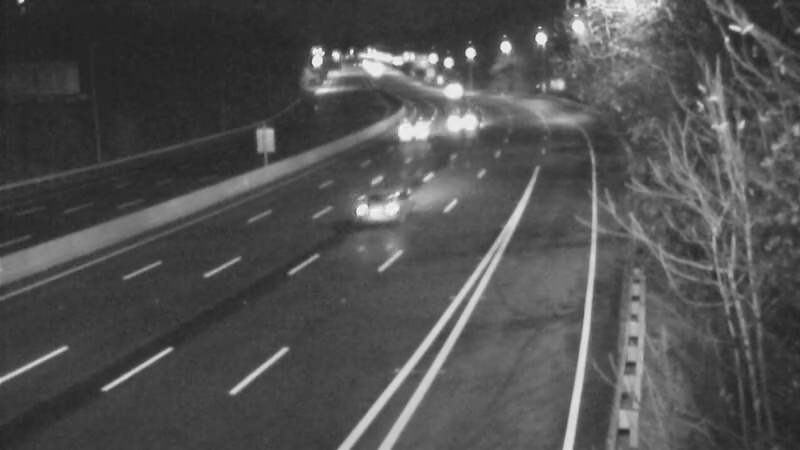vehicle: (352, 166, 432, 246), (426, 63, 476, 113), (441, 91, 491, 141), (395, 103, 445, 153)
